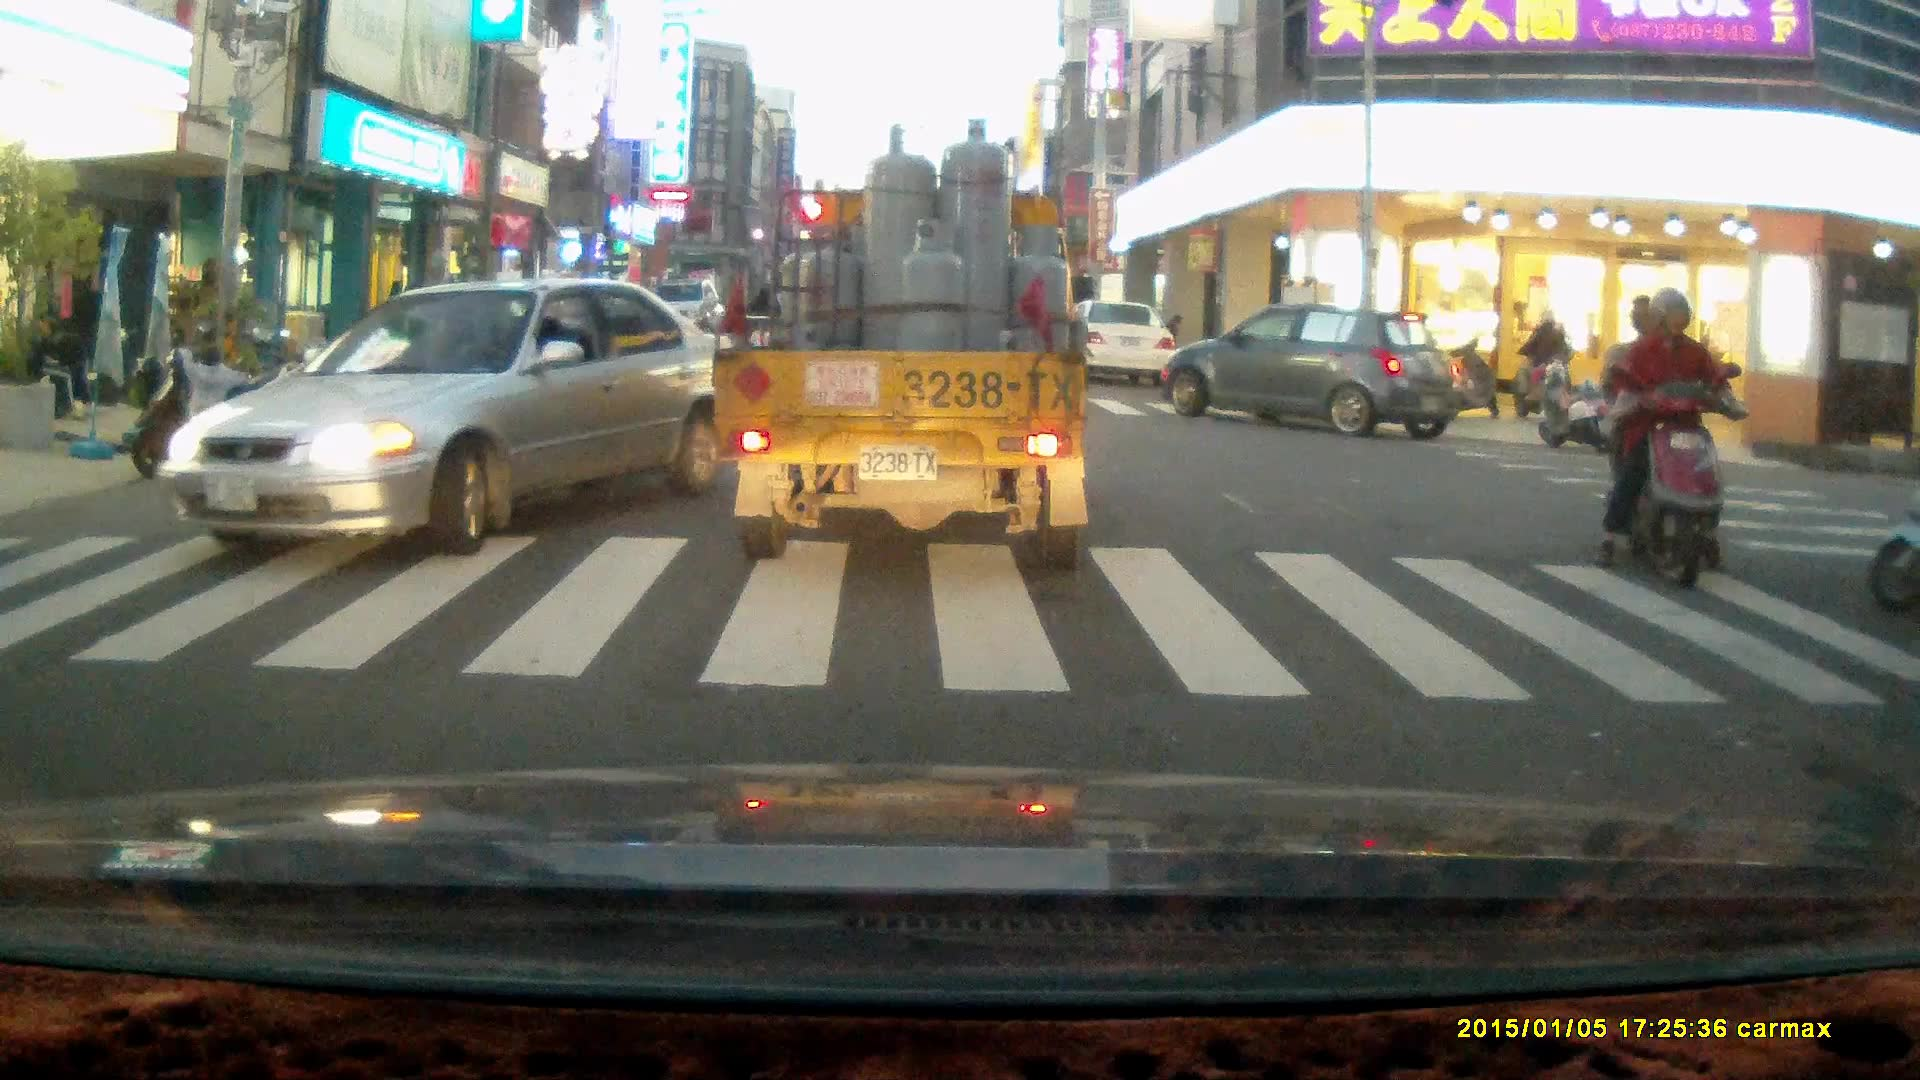pedestrian: (176, 341, 250, 465), (1161, 310, 1182, 374)
rider: (1589, 288, 1741, 587), (1511, 306, 1575, 423)
vehicle: (710, 116, 1094, 579), (156, 277, 738, 563), (1162, 303, 1471, 441), (1056, 300, 1171, 383)
